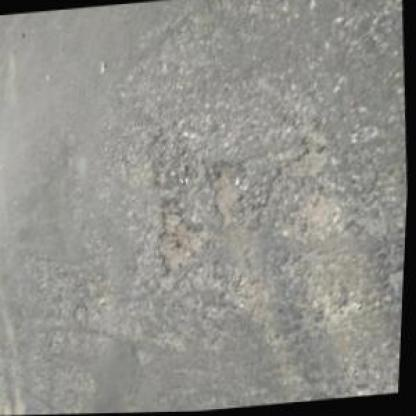pothole: (156, 209, 214, 274), (207, 162, 244, 222)
